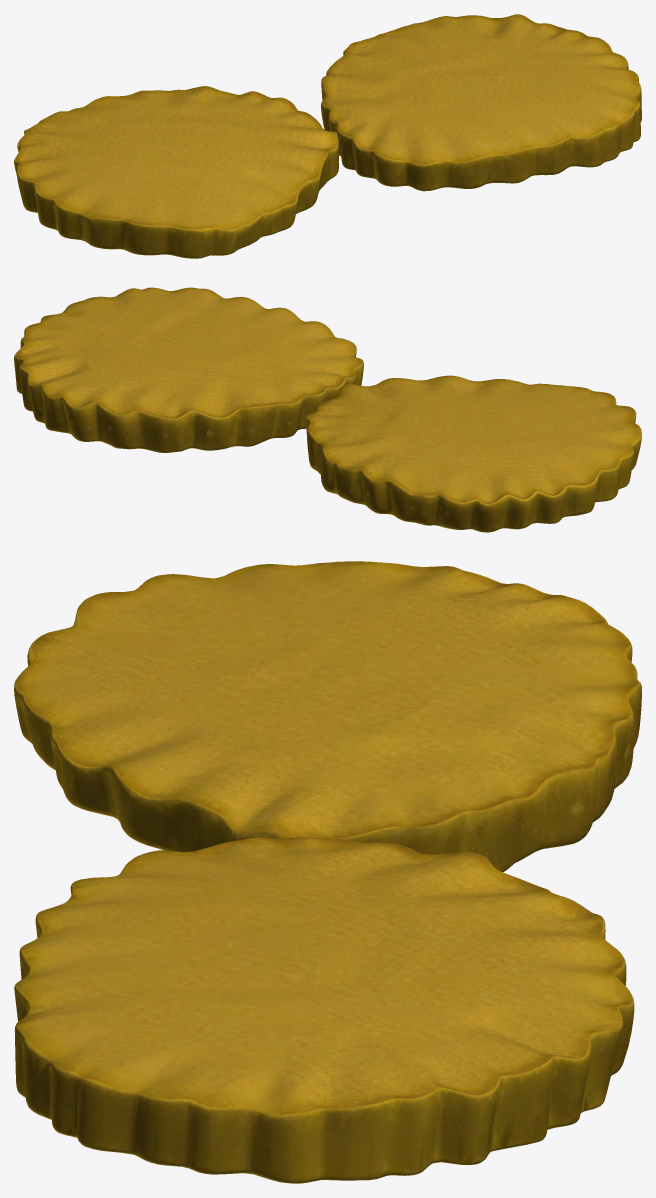
File: pickle.glb
The picture shows the model from 3 angles, top to bottom: view 1: azimuth 30°, elevation 25°; view 2: azimuth 150°, elevation 25°; view 3: azimuth 270°, elevation 25°; orthographic projection. The views are drawn at different scales.
Bounding box in the file's own units: 1.9 × 0.1478 × 0.9001.
1 material, 1 textured.
